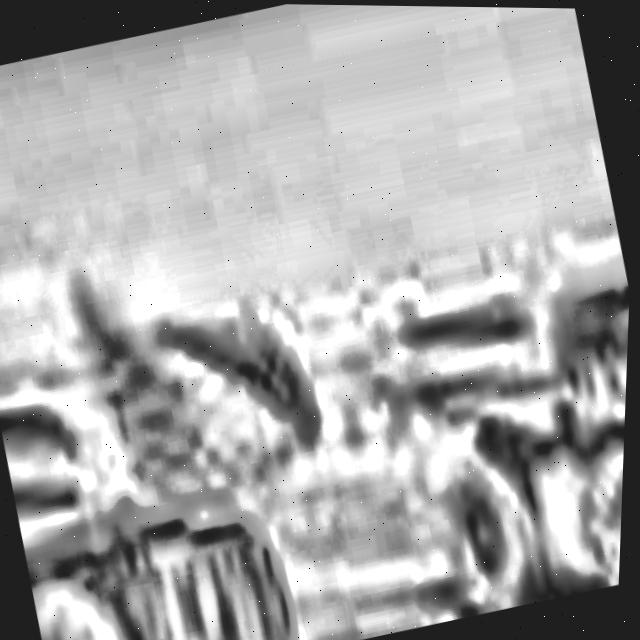dump_truck: (0, 180, 383, 640), (348, 224, 634, 626)
